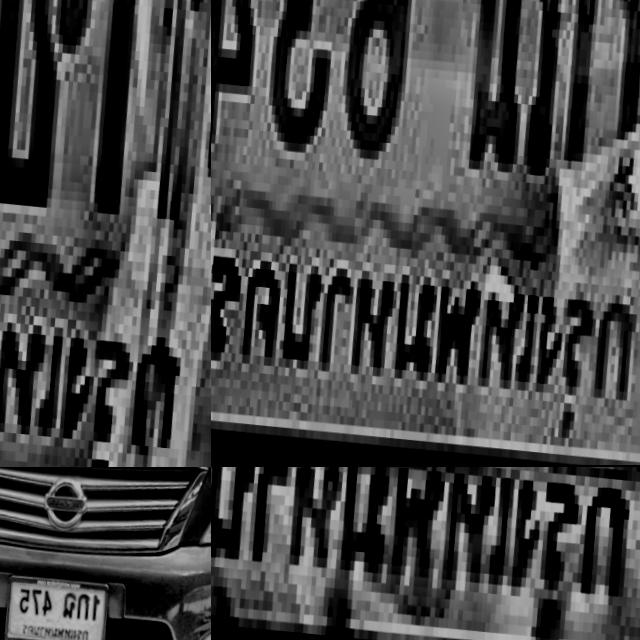license-plate: (211, 0, 640, 467), (0, 0, 211, 467), (211, 467, 640, 640), (0, 566, 114, 640)
